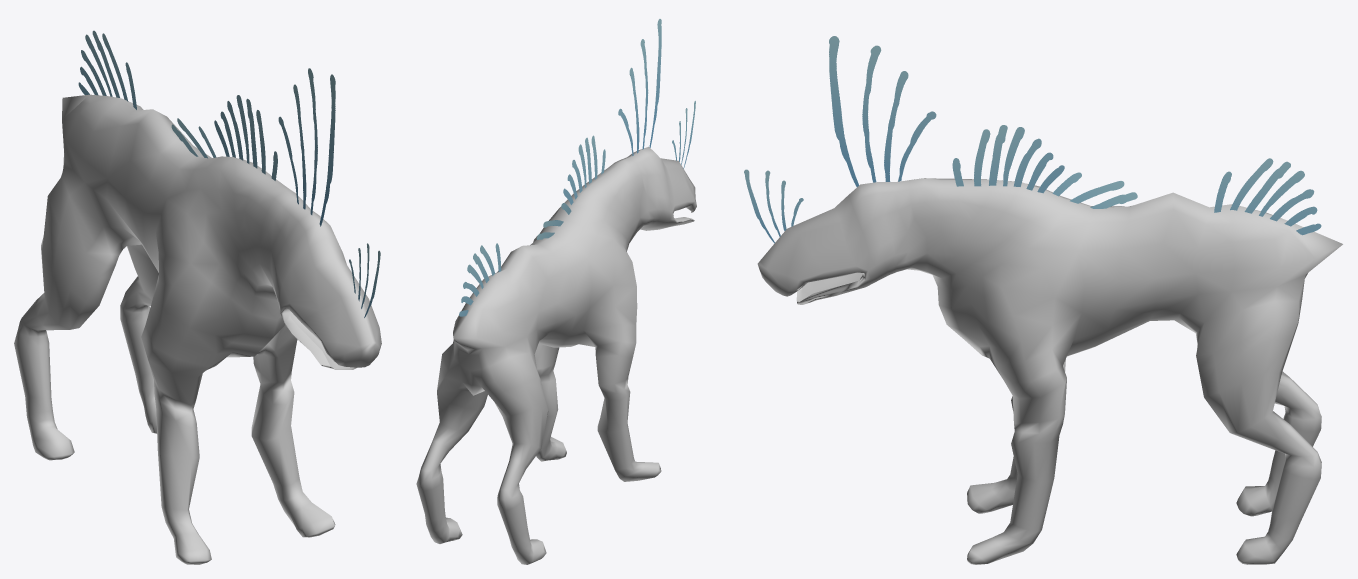
Rendered from hyenadogthing textured not rigged.fbx.
The picture shows the model from 3 angles, left to right: view 1: azimuth 30°, elevation 25°; view 2: azimuth 150°, elevation 25°; view 3: azimuth 270°, elevation 25°; orthographic projection. The views are drawn at different scales.
Parts seen in each view (by area): view 1: fdskljkjdlskjlfdsShape; view 2: fdskljkjdlskjlfdsShape; view 3: fdskljkjdlskjlfdsShape.
Part boxes in pixels (x1,y1,x2,y2): fdskljkjdlskjlfdsShape: (14, 30, 381, 564); fdskljkjdlskjlfdsShape: (416, 19, 696, 564); fdskljkjdlskjlfdsShape: (744, 36, 1342, 564).
Bounding box in the file's own units: 4.68 × 16.28 × 17.29.
